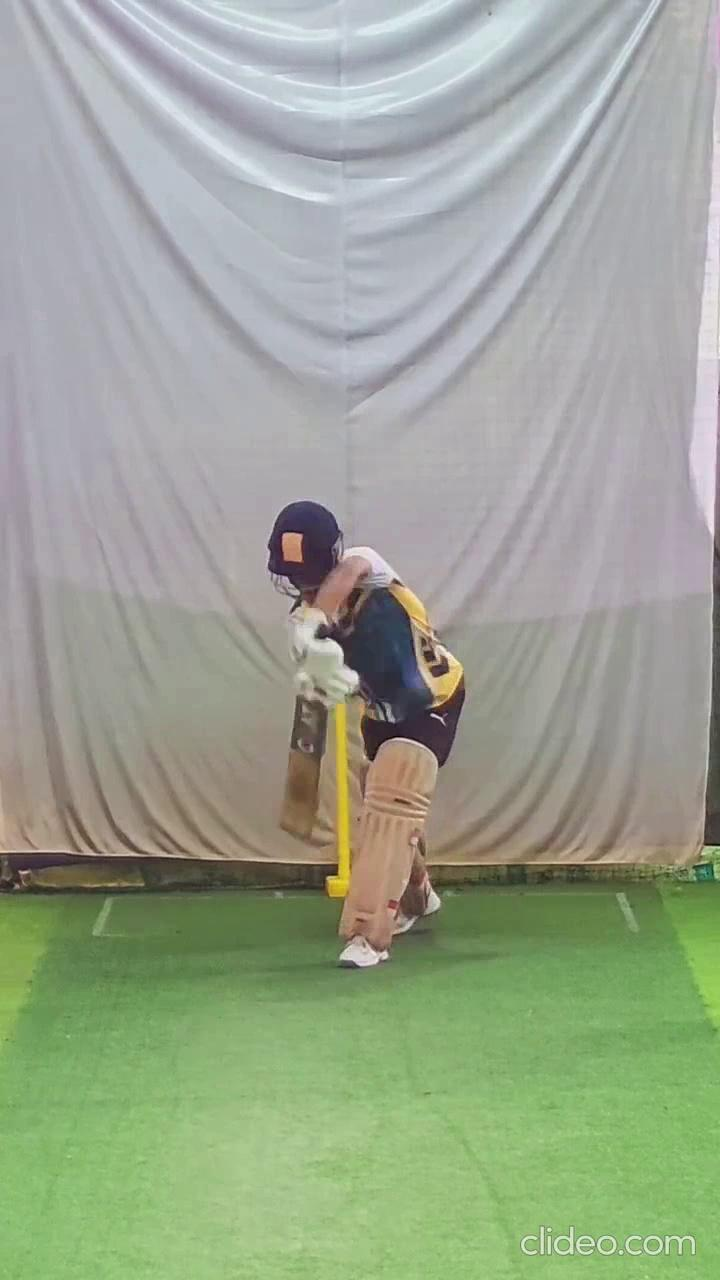bat: (275, 694, 333, 847)
